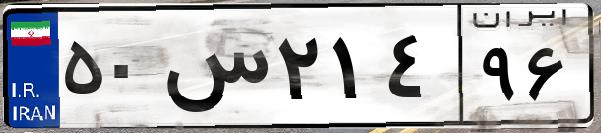0: (110, 28, 158, 98)
1: (330, 28, 385, 110)
2: (270, 28, 330, 110)
4: (385, 28, 445, 110)
5: (57, 26, 110, 100)
6: (525, 38, 570, 115)
9: (475, 38, 525, 113)
س: (158, 20, 270, 120)
